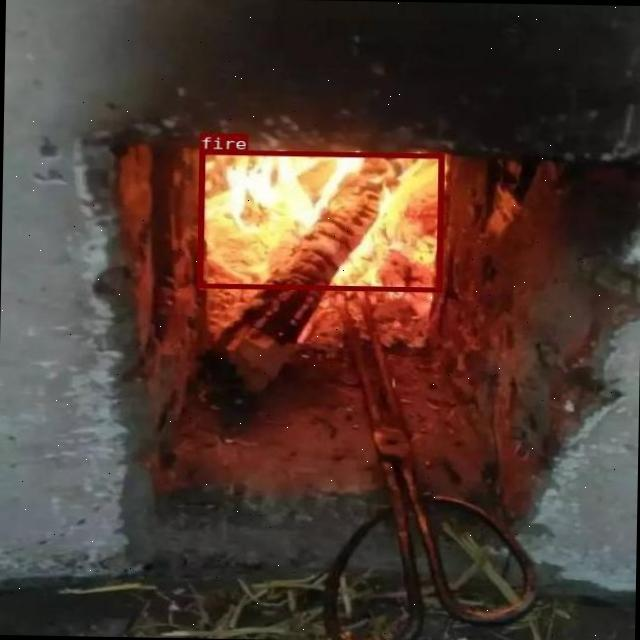fire: (197, 149, 444, 290)
